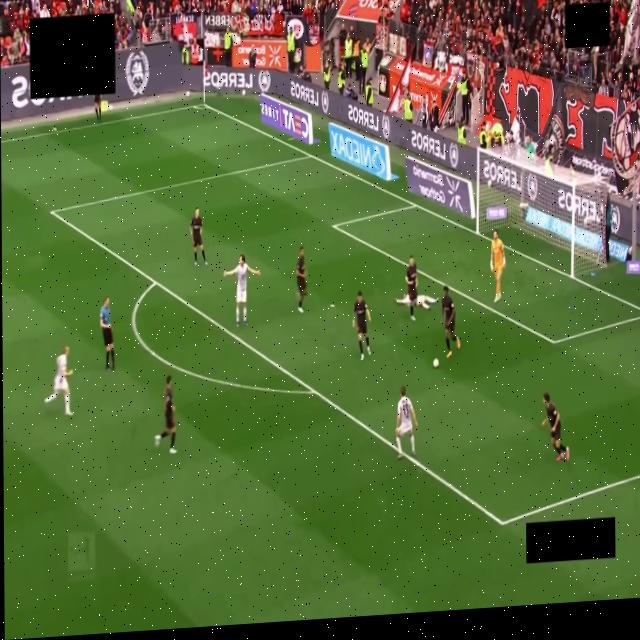ball: (433, 359, 438, 368)
player: (223, 255, 259, 326), (44, 347, 72, 416), (541, 393, 568, 460), (154, 376, 175, 454), (395, 386, 416, 459), (441, 286, 460, 358), (352, 291, 370, 359), (490, 231, 504, 302), (190, 208, 206, 265), (405, 255, 416, 321), (395, 293, 437, 310), (296, 247, 305, 313)
referee: (99, 297, 114, 370)
